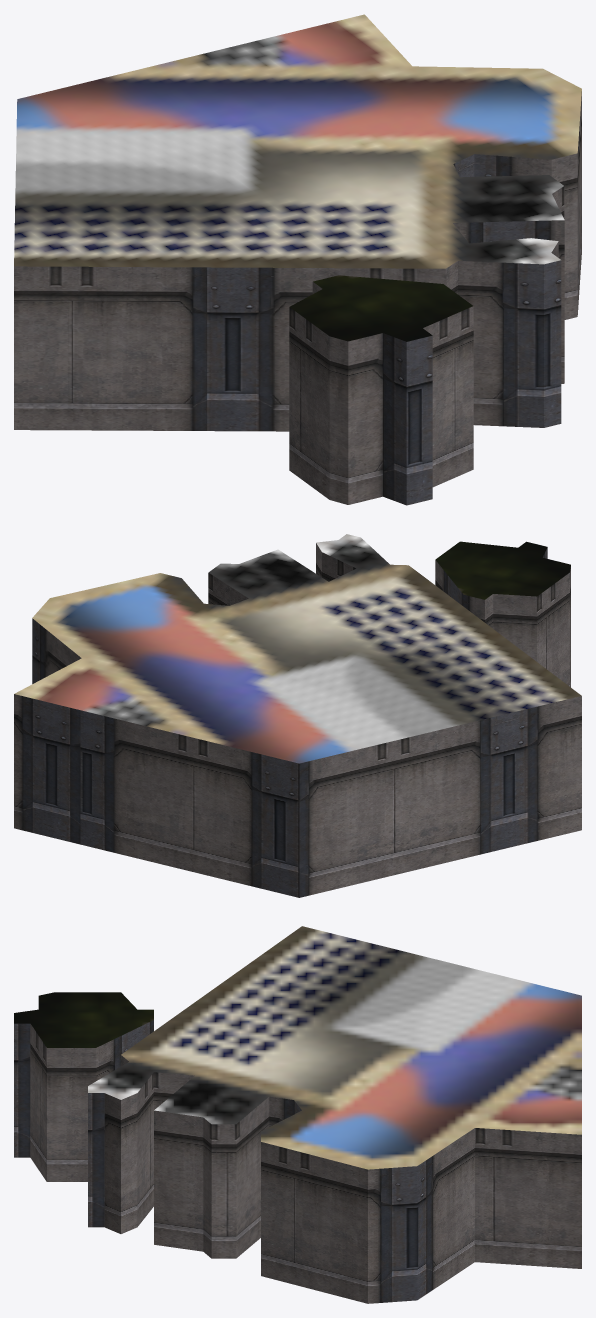
The model's file is BuildingSystem-03-Advance-03-Heavy-3-50-03.glb.
The picture shows the model from 3 angles, top to bottom: view 1: azimuth 30°, elevation 25°; view 2: azimuth 150°, elevation 25°; view 3: azimuth 270°, elevation 25°; orthographic projection. The views are drawn at different scales.
Parts seen in each view (by area): view 1: buildings/saxarba/SMV_Buildings/BuildingSystem-03-Advance-03; view 2: buildings/saxarba/SMV_Buildings/BuildingSystem-03-Advance-03; view 3: buildings/saxarba/SMV_Buildings/BuildingSystem-03-Advance-03.
Boxes of the visible parts, x1,y1,x2,y2 form: buildings/saxarba/SMV_Buildings/BuildingSystem-03-Advance-03: (14, 14, 581, 505); buildings/saxarba/SMV_Buildings/BuildingSystem-03-Advance-03: (14, 534, 581, 897); buildings/saxarba/SMV_Buildings/BuildingSystem-03-Advance-03: (14, 926, 581, 1303).
Size of the model in its own units: 70 by 18 by 69.
